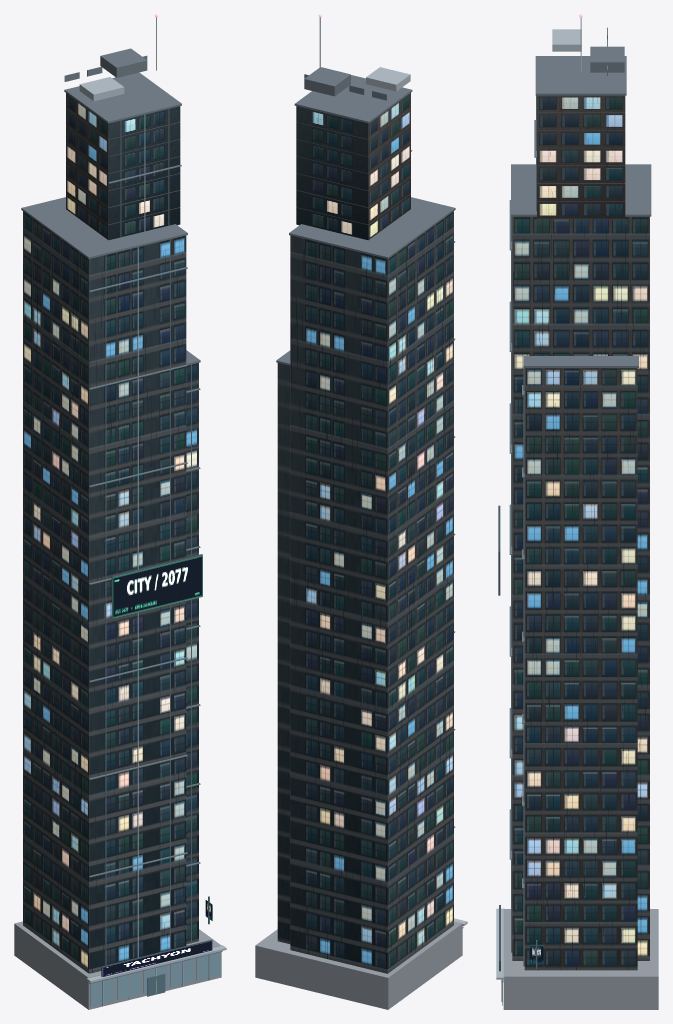
File: landmark_01.glb
3 views of the same model, side by side, from view 1: azimuth 30°, elevation 25°; view 2: azimuth 150°, elevation 25°; view 3: azimuth 270°, elevation 25° (orthographic). The views are drawn at different scales.
Parts seen in each view (by area): view 1: facade_0, facade_sideb_3, facade_8, roof, facade_4, frame, facade_sideb_11, concrete, ad_14, alum, glass, sign_12 (+1 smaller); view 2: facade_back_1, facade_sideb_3, facade_back_9, concrete, facade_back_5, roof, facade_sideb_11, alum, facade_side_2, facade_side_6; view 3: facade_side_6, facade_side_2, facade_side_10, roof, concrete, frame, alum, dark.
Boxes of the visible parts, <box> form: facade_0: <box>89,235,186,973</box>; facade_sideb_3: <box>23,211,88,973</box>; facade_8: <box>108,106,180,239</box>; roof: <box>21,48,200,365</box>; facade_4: <box>186,363,198,944</box>; frame: <box>64,55,222,983</box>; facade_sideb_11: <box>66,93,108,239</box>; concrete: <box>14,124,221,1009</box>; ad_14: <box>112,555,202,618</box>; alum: <box>79,17,226,1005</box>; glass: <box>90,952,220,1006</box>; sign_12: <box>102,941,212,976</box>; facade_back_1: <box>290,235,387,973</box>; facade_sideb_3: <box>387,211,453,973</box>; facade_back_9: <box>296,106,368,239</box>; concrete: <box>255,921,462,1009</box>; facade_back_5: <box>278,363,290,943</box>; roof: <box>276,67,455,365</box>; facade_sideb_11: <box>368,93,410,239</box>; alum: <box>319,17,467,926</box>; facade_side_2: <box>290,235,290,949</box>; facade_side_6: <box>277,363,277,940</box>; facade_side_6: <box>524,368,637,970</box>; facade_side_2: <box>512,216,649,960</box>; facade_side_10: <box>537,95,625,219</box>; roof: <box>511,46,651,367</box>; concrete: <box>503,909,658,1009</box>; frame: <box>501,27,607,982</box>; alum: <box>496,17,581,1001</box>; dark: <box>498,505,500,971</box>.
Bounding box in the file's own units: 34.35 × 224 × 33.5.
Materials: 25 (15 with a texture image).
